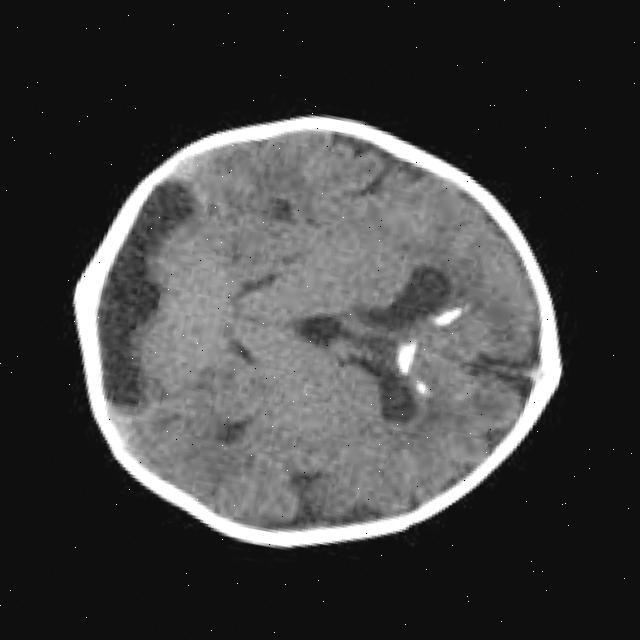NoTumor: (31, 68, 606, 599)
